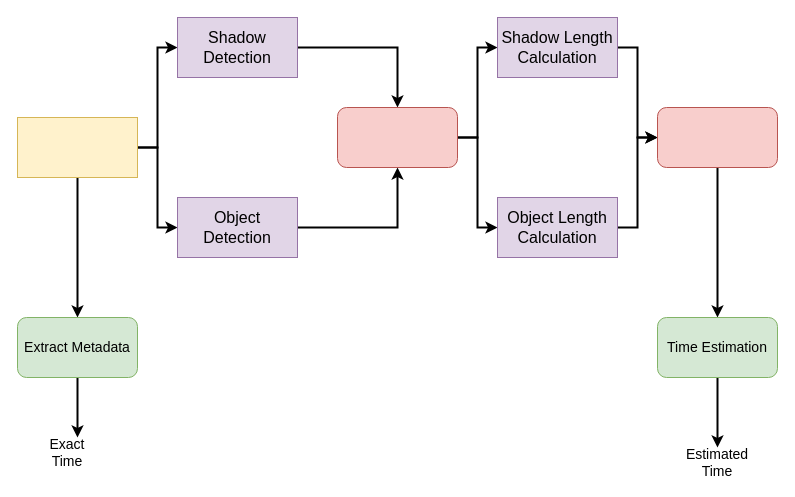
Image size: 795x497. Some labels were removed from this diagram. The shapes that lost their labels are listed below. From the top down, each one's box as (x1, y1, x2, y2) in pixels, then its label:
(16, 116, 138, 178): Image
(336, 106, 458, 168): Object, Shadow Relationship
(656, 106, 778, 168): Sun Elevation Calculation
